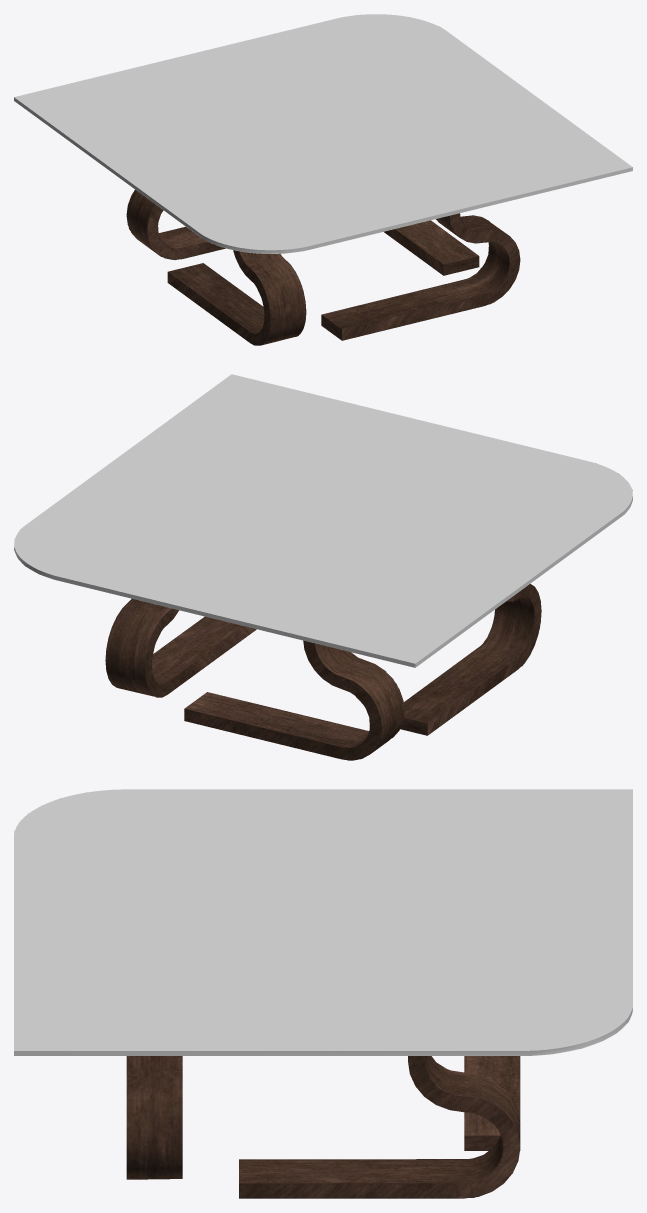
Rendered from glass-table.glb.
3 renders of one model, top to bottom at view 1: azimuth 30°, elevation 25°; view 2: azimuth 150°, elevation 25°; view 3: azimuth 270°, elevation 25°, orthographic. The views are drawn at different scales.
Visible parts, largest first — view 1: Glass_Table1; view 2: Glass_Table1; view 3: Glass_Table1.
Boxes of the visible parts, x1,y1,x2,y2 form: Glass_Table1: (14,14,632,345); Glass_Table1: (14,374,632,760); Glass_Table1: (14,789,632,1198).
Size of the model in its own units: 1.1 by 0.3825 by 1.1.
3 materials, 2 textured.
